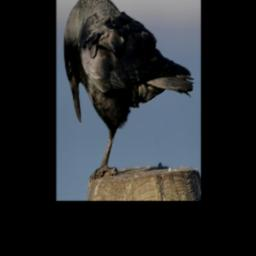Crow: (63, 0, 195, 195)
